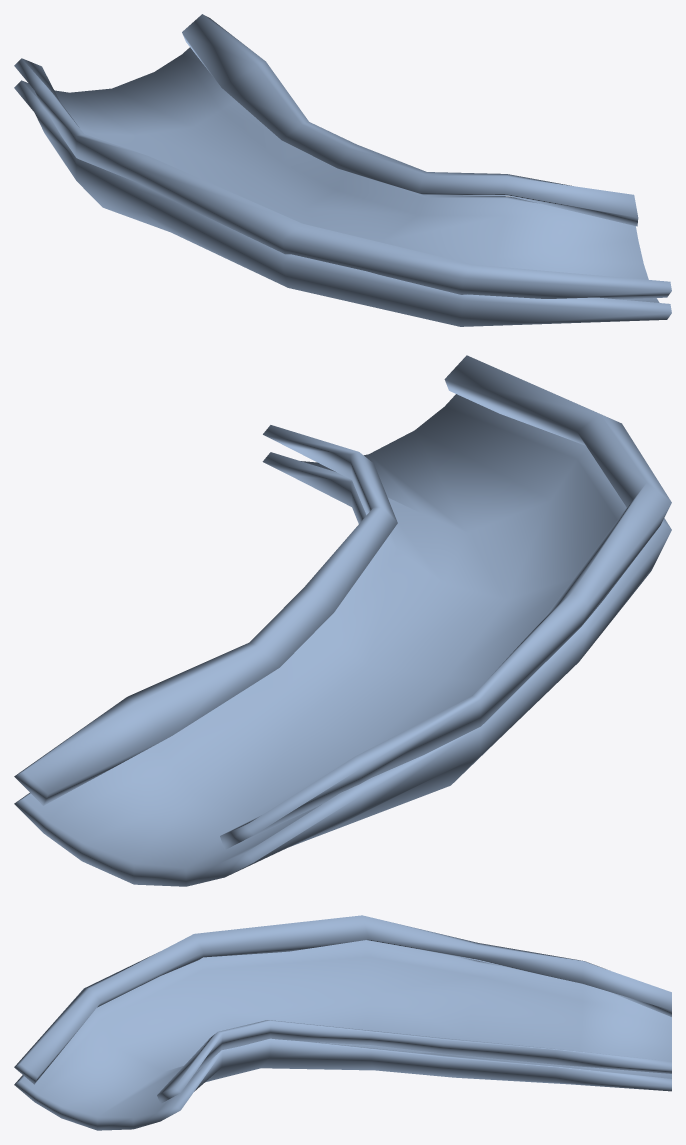
Rendered from junRoadShort5_70.fbx.
3 views of the same model, one above another, from view 1: azimuth 30°, elevation 25°; view 2: azimuth 150°, elevation 25°; view 3: azimuth 270°, elevation 25° (orthographic). The views are drawn at different scales.
Visible parts, largest first — view 1: roadShort5_70_LOD0, roadShort5_70_edge_LOD0; view 2: roadShort5_70_LOD0, roadShort5_70_edge_LOD0; view 3: roadShort5_70_LOD0, roadShort5_70_edge_LOD0.
Part boxes in pixels (x1,y1,x2,y2): roadShort5_70_LOD0: (14, 47, 671, 326); roadShort5_70_edge_LOD0: (14, 14, 671, 299); roadShort5_70_LOD0: (14, 394, 671, 886); roadShort5_70_edge_LOD0: (14, 355, 671, 849); roadShort5_70_LOD0: (14, 940, 671, 1130); roadShort5_70_edge_LOD0: (14, 915, 671, 1103).
Size of the model in its own units: 1256 by 439 by 2394.
